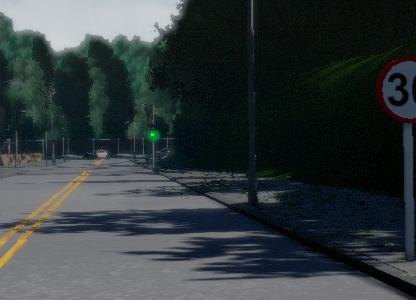Speed_30: (370, 51, 416, 127)
